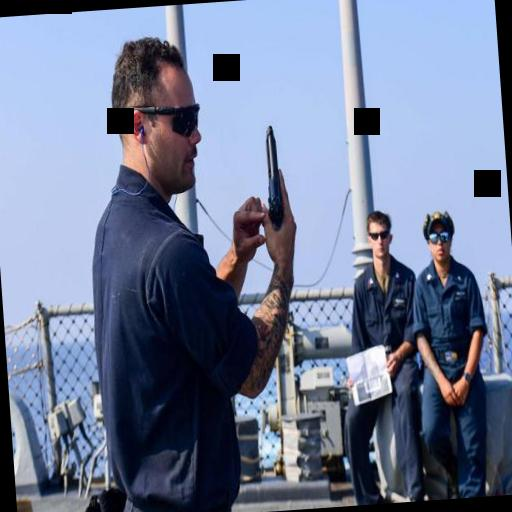Handgun: (256, 118, 288, 231)
